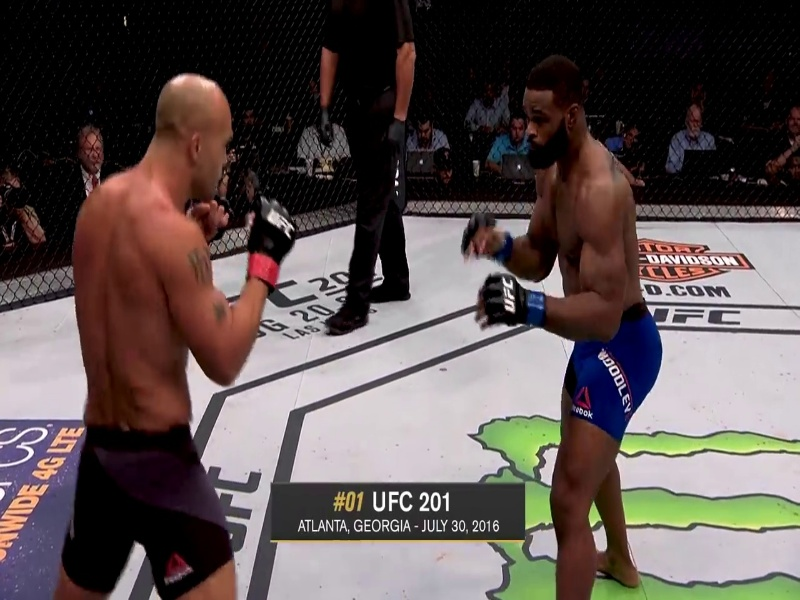fighter: (45, 67, 298, 594), (461, 44, 669, 600)
